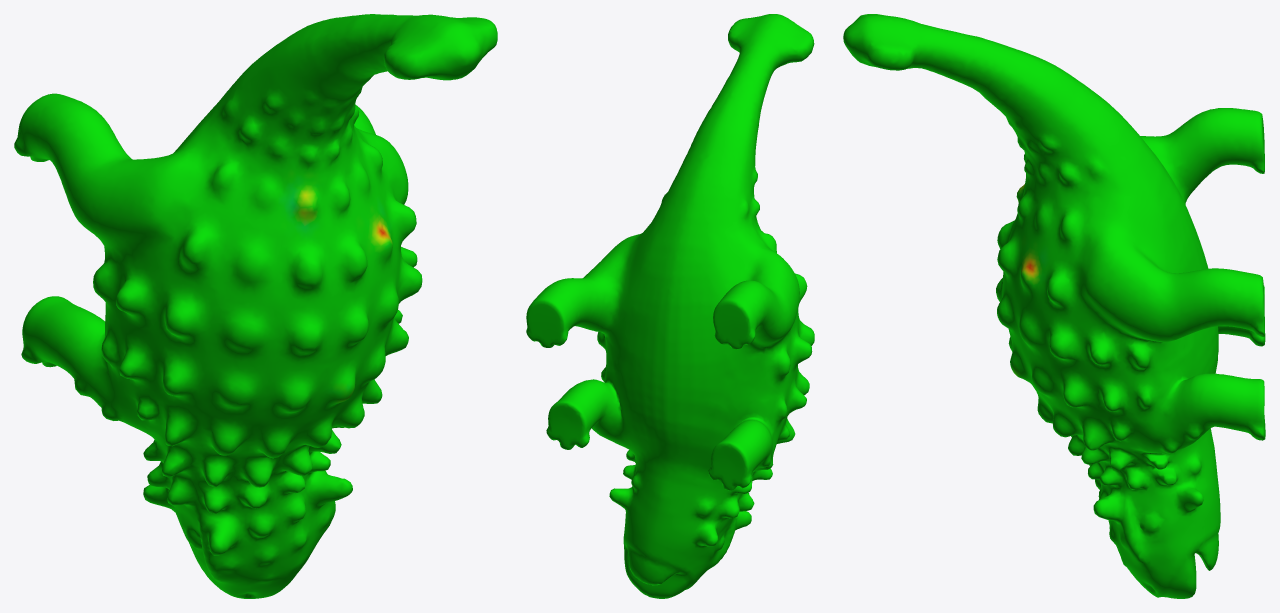
The model's file is all=0.000191-hole=0.001317-mgcn-w-refine.obj.
The picture shows the model from 3 angles, left to right: view 1: azimuth 30°, elevation 25°; view 2: azimuth 150°, elevation 25°; view 3: azimuth 270°, elevation 25°; orthographic projection. The views are drawn at different scales.
Bounding box in the file's own units: 62.61 × 127 × 83.11.
